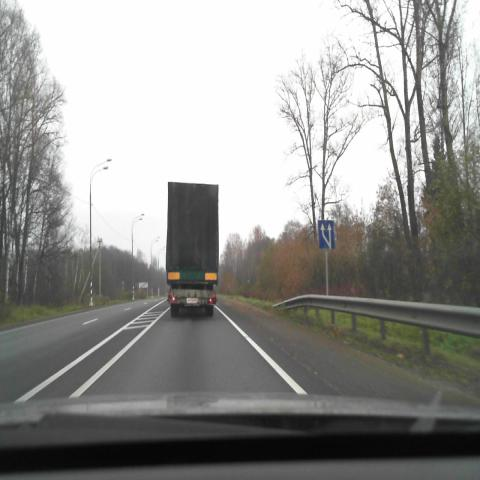5_15_3: (317, 220, 334, 250)
